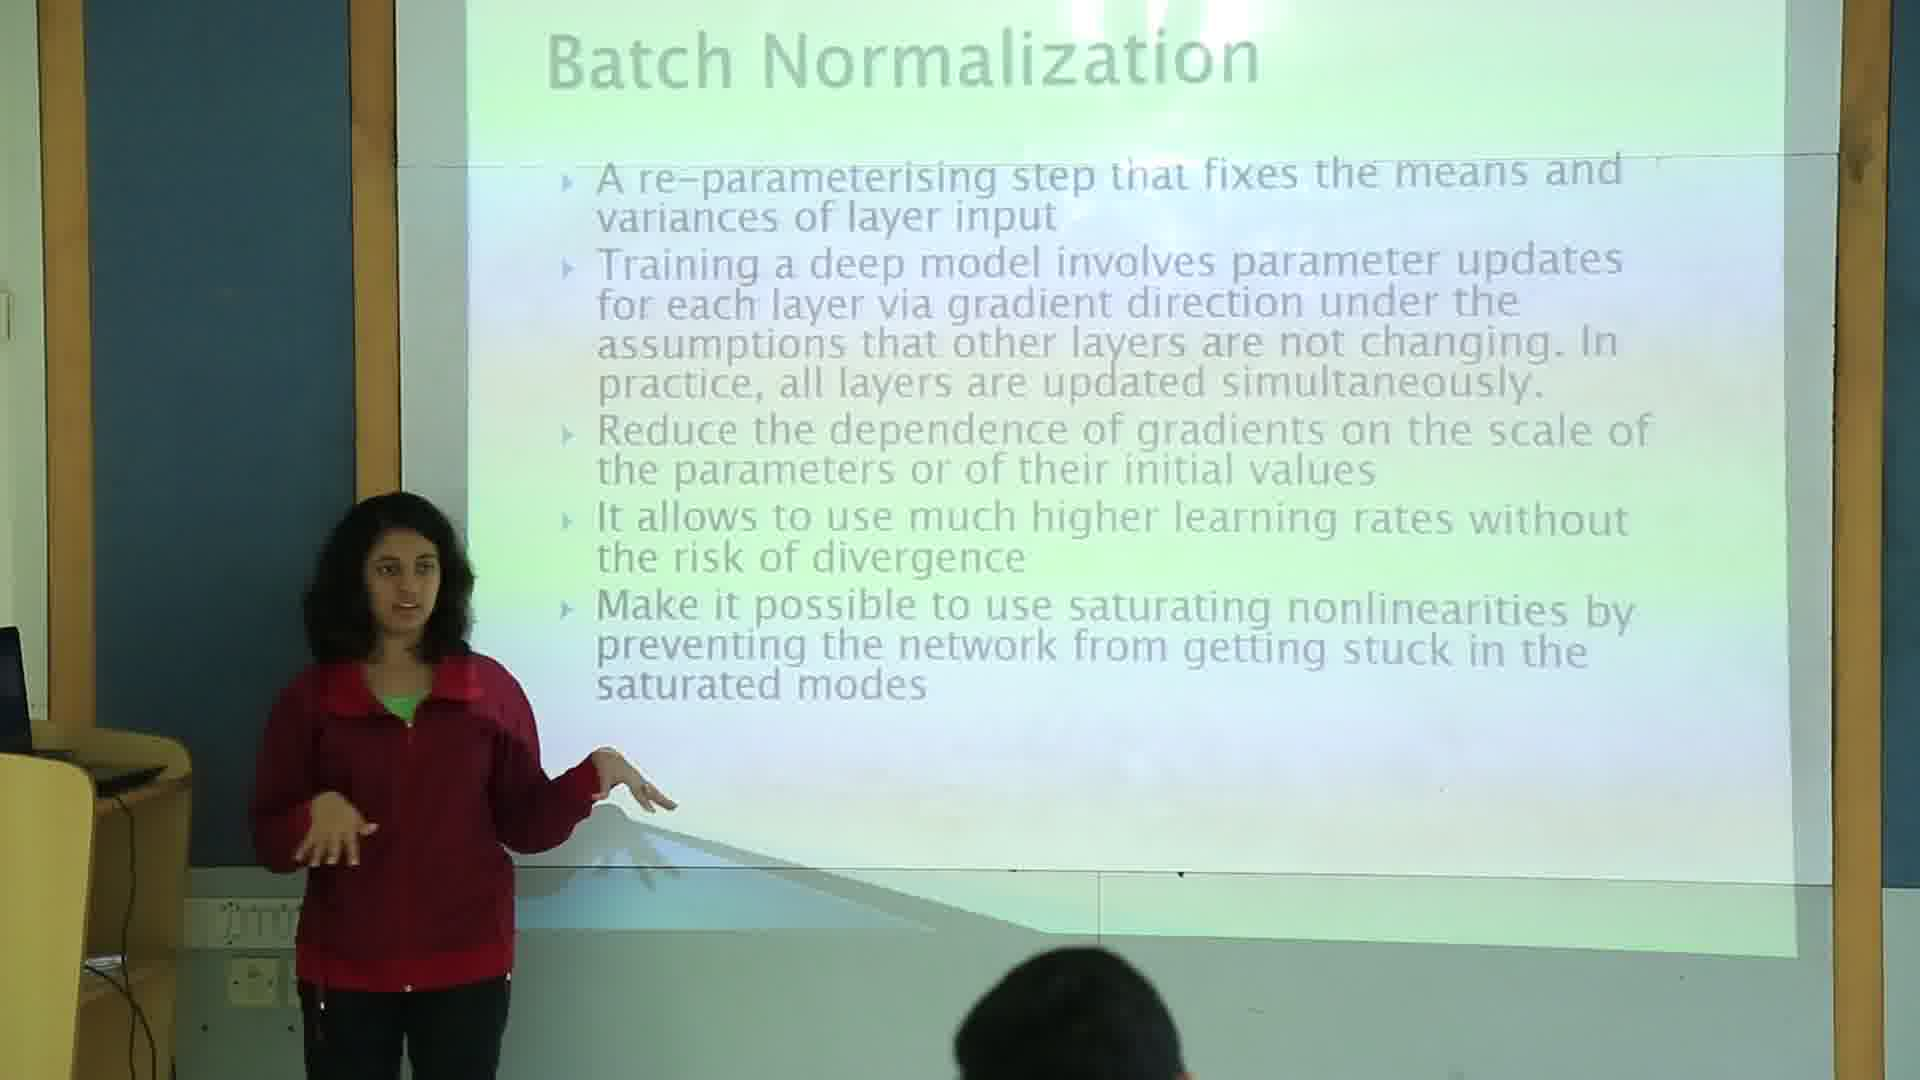slide: (464, 3, 1801, 955)
